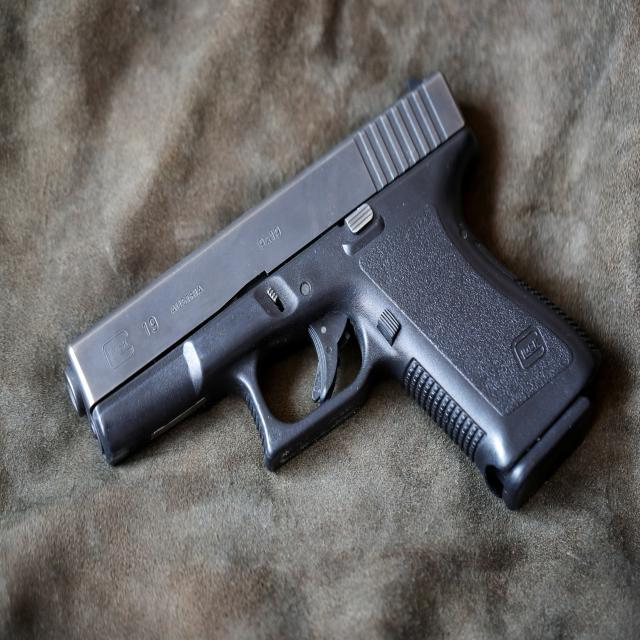Pistol: (49, 58, 636, 525)
